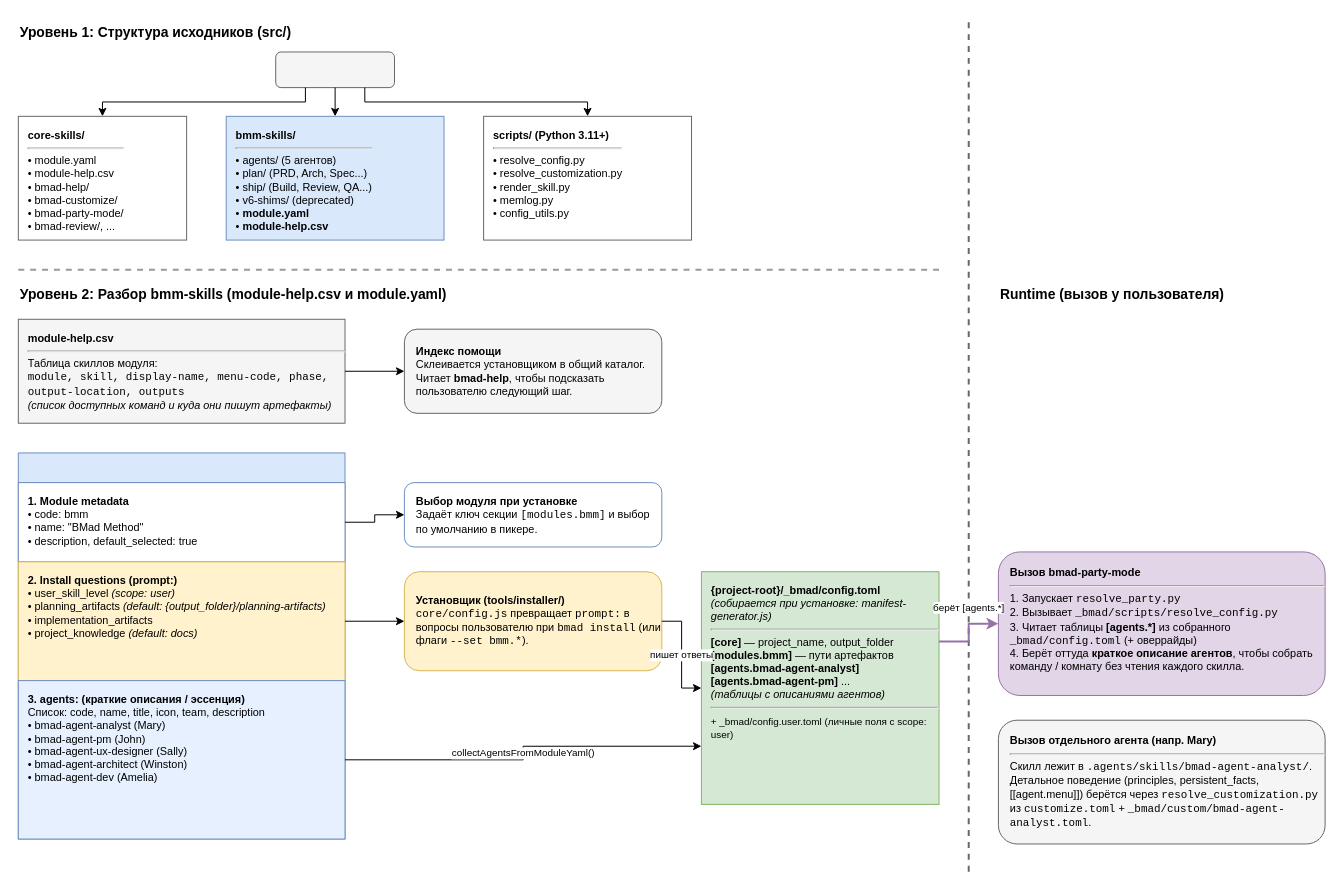
The diagram is 1342 pixels wide and 891 high, and some of its shapes have lost their labels. Here are the shapes that lost their labels. From the top down, the box of each, then its label:
(275, 51, 395, 88): src/
(17, 452, 345, 839): src/bmm-skills/module.yaml
